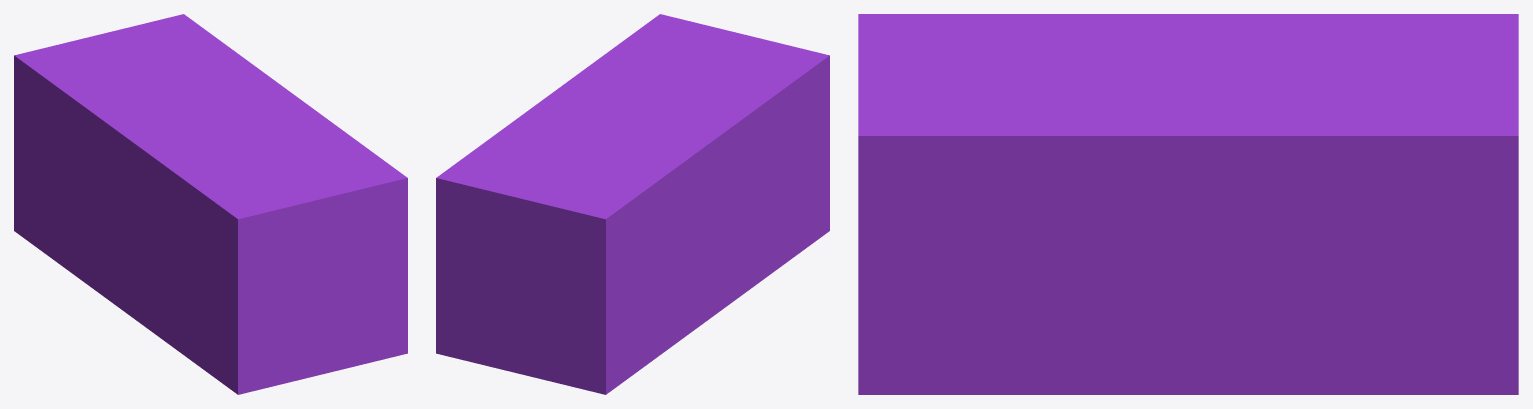
File: ExhibitGlass_1.009_chunks.fbx
3 views of the same model, side by side, from view 1: azimuth 30°, elevation 25°; view 2: azimuth 150°, elevation 25°; view 3: azimuth 270°, elevation 25° (orthographic). The views are drawn at different scales.
Parts seen in each view (by area): view 1: ExhibitGlass_1.009_2, ExhibitGlass_1.009_0, ExhibitGlass_1.009_3; view 2: ExhibitGlass_1.009_0, ExhibitGlass_1.009_2, ExhibitGlass_1.009_3, ExhibitGlass_1.009_1; view 3: ExhibitGlass_1.009_3, ExhibitGlass_1.009_2, ExhibitGlass_1.009_1, ExhibitGlass_1.009_0.
Boxes of the visible parts, bbox=[...] form: ExhibitGlass_1.009_2: bbox=[156, 132, 407, 394]; ExhibitGlass_1.009_0: bbox=[14, 44, 177, 335]; ExhibitGlass_1.009_3: bbox=[59, 14, 344, 141]; ExhibitGlass_1.009_0: bbox=[511, 115, 749, 394]; ExhibitGlass_1.009_2: bbox=[598, 14, 829, 289]; ExhibitGlass_1.009_3: bbox=[436, 60, 700, 285]; ExhibitGlass_1.009_1: bbox=[436, 267, 557, 382]; ExhibitGlass_1.009_3: bbox=[1042, 38, 1518, 268]; ExhibitGlass_1.009_2: bbox=[858, 14, 1135, 394]; ExhibitGlass_1.009_1: bbox=[1037, 264, 1518, 394]; ExhibitGlass_1.009_0: bbox=[1099, 14, 1518, 46].
Size of the model in its own units: 270 by 267 by 618.
